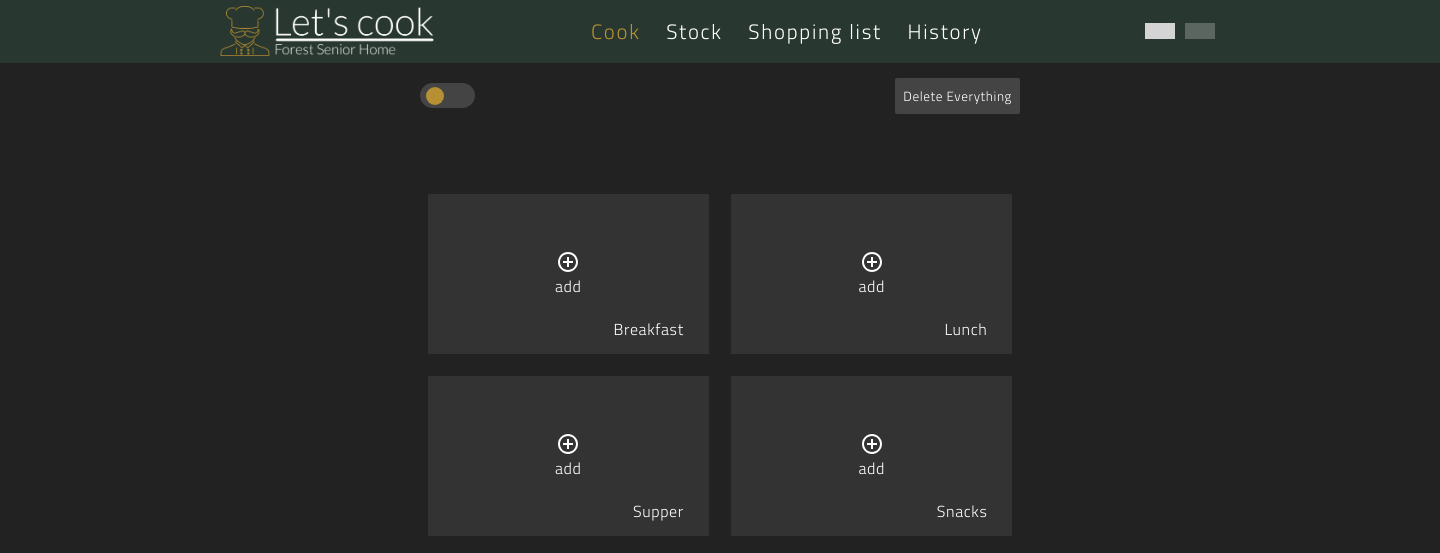
main pages renders › Stock component › render stock component after click in Navbar stok
Click the link "Stock" at {"x": 695, "y": 31}, box top-left (666, 15), bottom-right (723, 47)
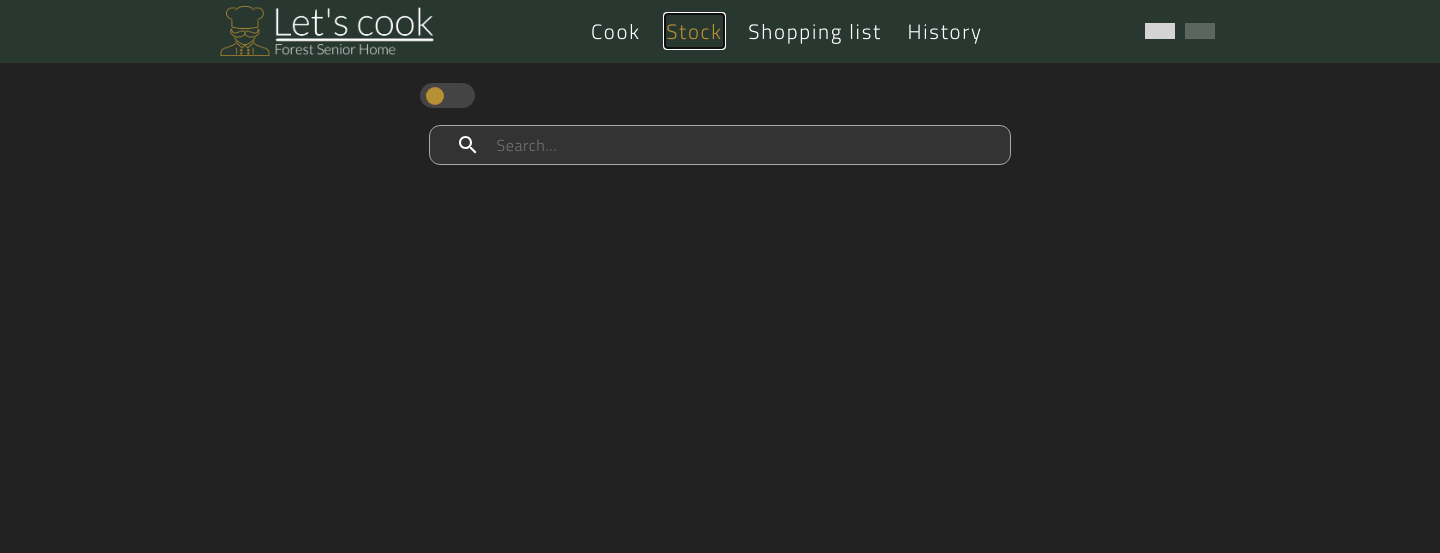
Expected: the element with class "stock-container" is shown, top-left (0, 126), bottom-right (1439, 244)
